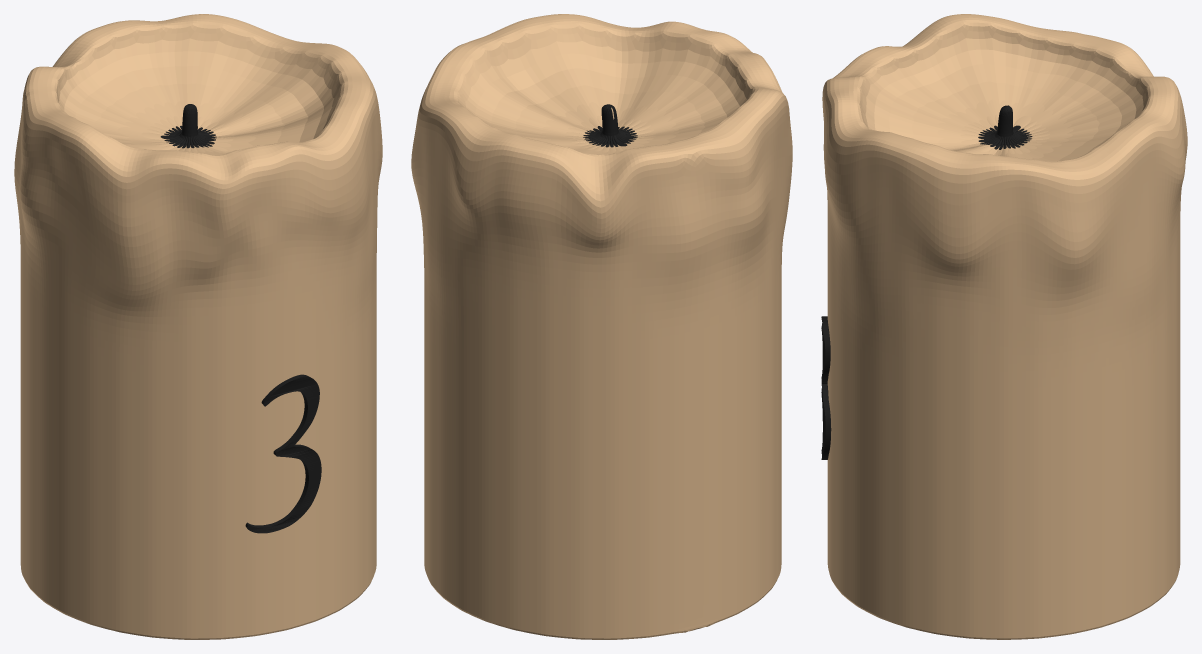
Rendered from Candle-3.fbx.
3 renders of one model, left to right at view 1: azimuth 30°, elevation 25°; view 2: azimuth 150°, elevation 25°; view 3: azimuth 270°, elevation 25°, orthographic.
Parts seen in each view (by area): view 1: Candle, Text; view 2: Candle; view 3: Candle, Text.
Boxes of the visible parts, <box> form: Candle: <box>14,14,382,639</box>; Text: <box>245,374,321,533</box>; Candle: <box>411,14,792,639</box>; Candle: <box>822,14,1187,639</box>; Text: <box>821,316,831,459</box>.
Size of the model in its own units: 41.75 by 60.84 by 41.42.
